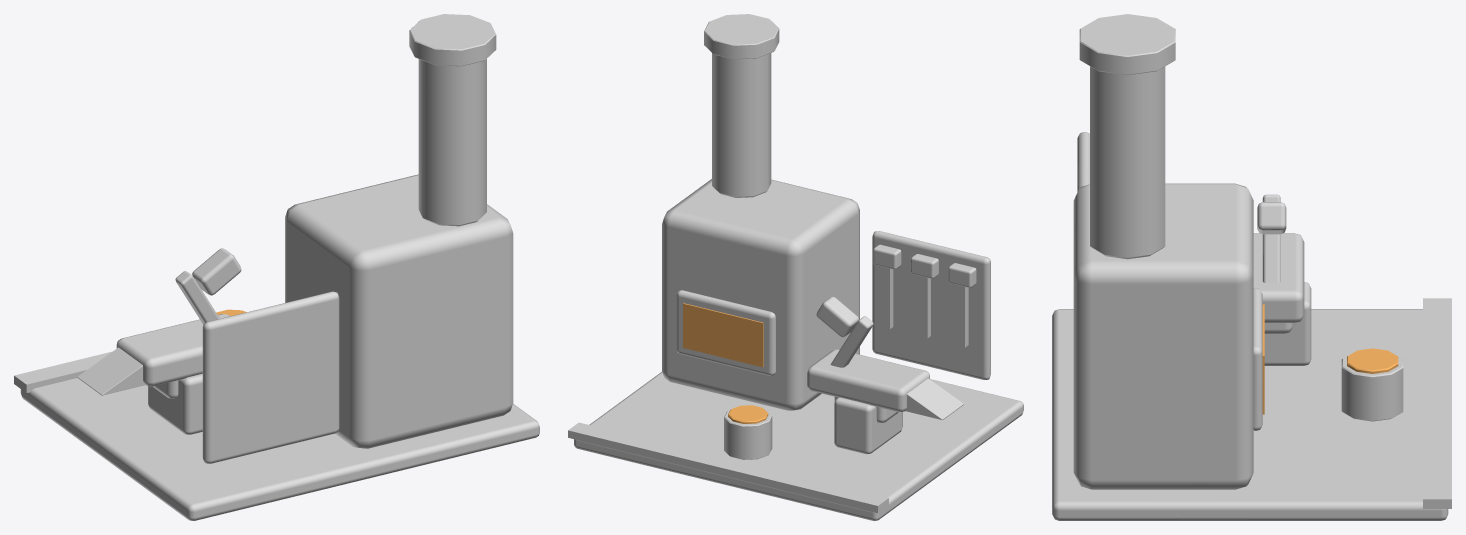
The model's file is ForgeStation.glb.
3 views of the same model, side by side, from view 1: azimuth 30°, elevation 25°; view 2: azimuth 150°, elevation 25°; view 3: azimuth 270°, elevation 25° (orthographic). The views are drawn at different scales.
Parts seen in each view (by area): view 1: Body; view 2: Body, Glow; view 3: Body, Glow.
Part boxes in pixels (x1,y1,x2,y2): Body: (14,14,539,520); Body: (568,14,1023,520); Glow: (683,303,768,423); Body: (1052,14,1451,520); Glow: (1262,304,1398,414).
Bounding box in the file's own units: 13.42 × 14 × 11.1.
